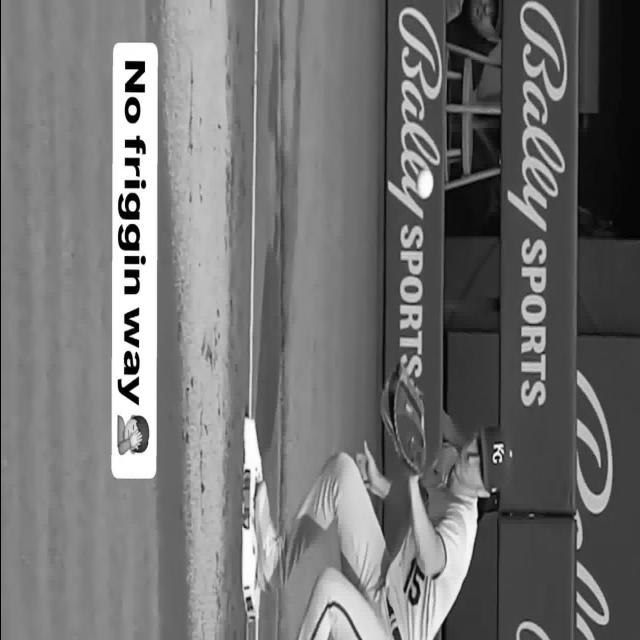base: (241, 416, 262, 622)
baseball: (416, 169, 432, 200)
baseball_glove: (379, 362, 425, 476)
shoe: (254, 480, 280, 591)
